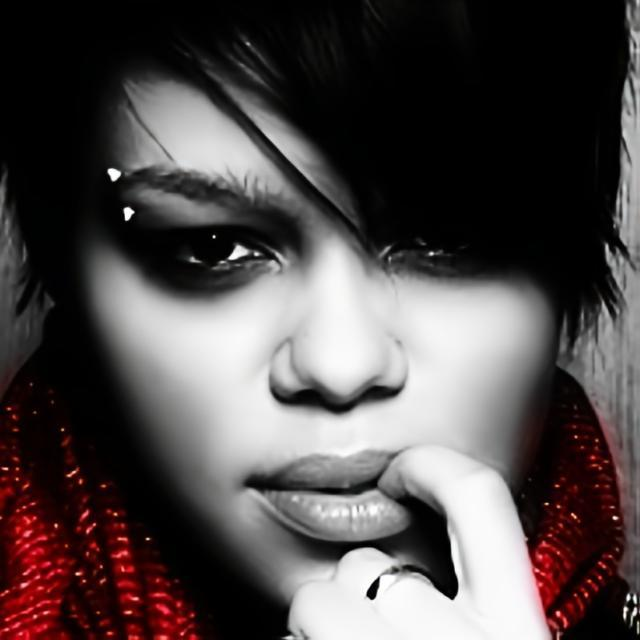anger: (84, 39, 560, 614)
